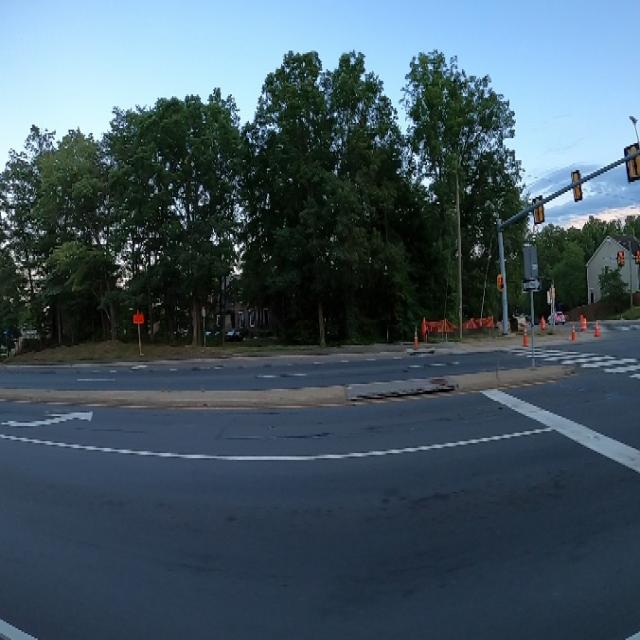cars: (547, 308, 567, 330)
